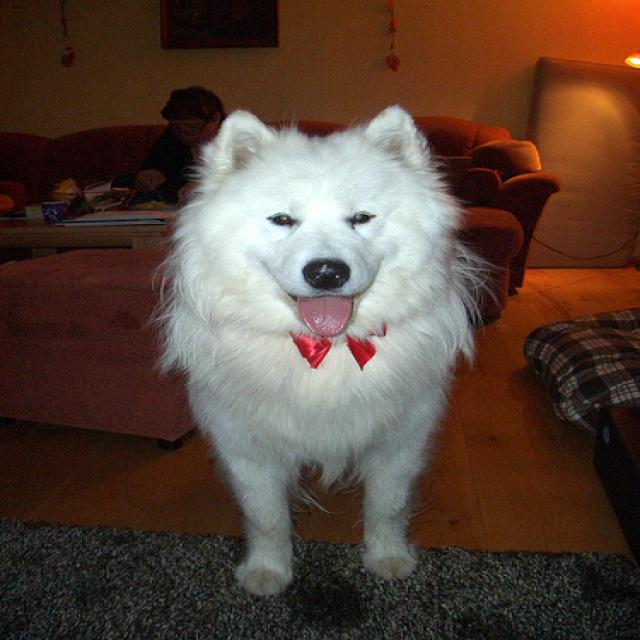dog-samoyed: (140, 92, 498, 614)
